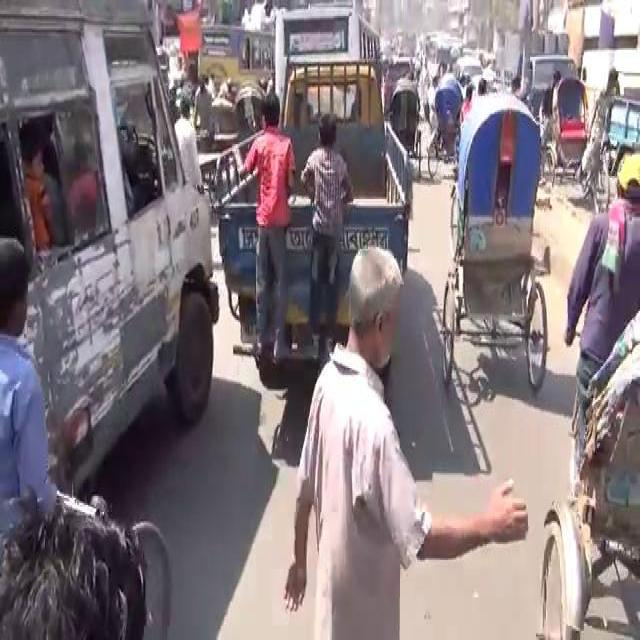11: (219, 54, 413, 355), (452, 47, 486, 88)
13: (539, 159, 637, 623), (439, 96, 546, 395), (544, 68, 612, 212), (424, 66, 470, 178), (392, 77, 422, 175), (232, 76, 268, 134)
18: (496, 23, 588, 133)
Truck: (0, 0, 223, 485), (273, 0, 378, 117), (194, 22, 272, 78)
